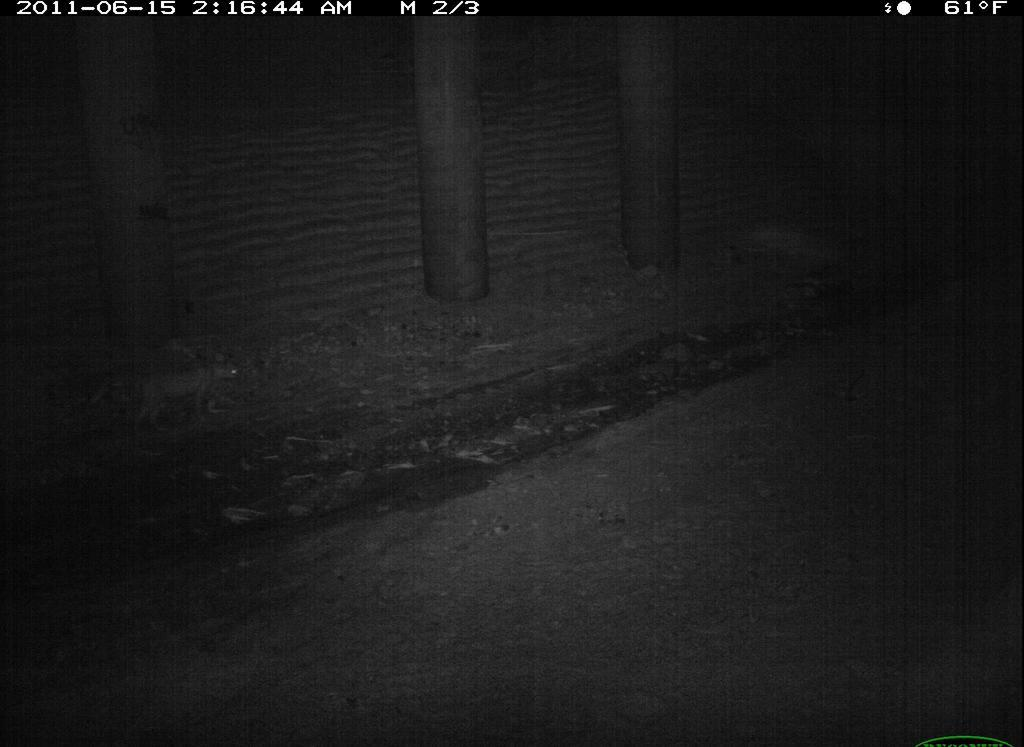bobcat: (252, 707, 490, 747)
